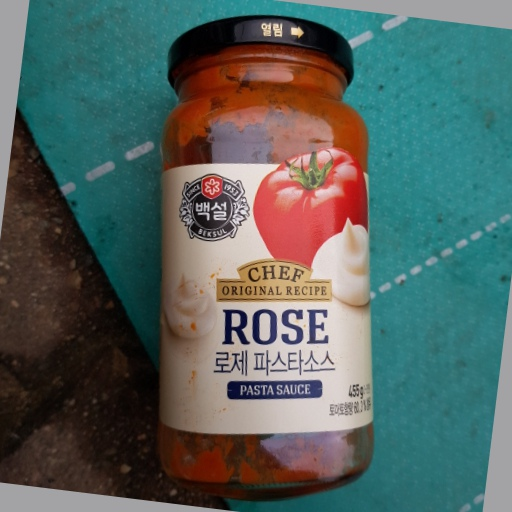Glass_5: (141, 16, 387, 493)
